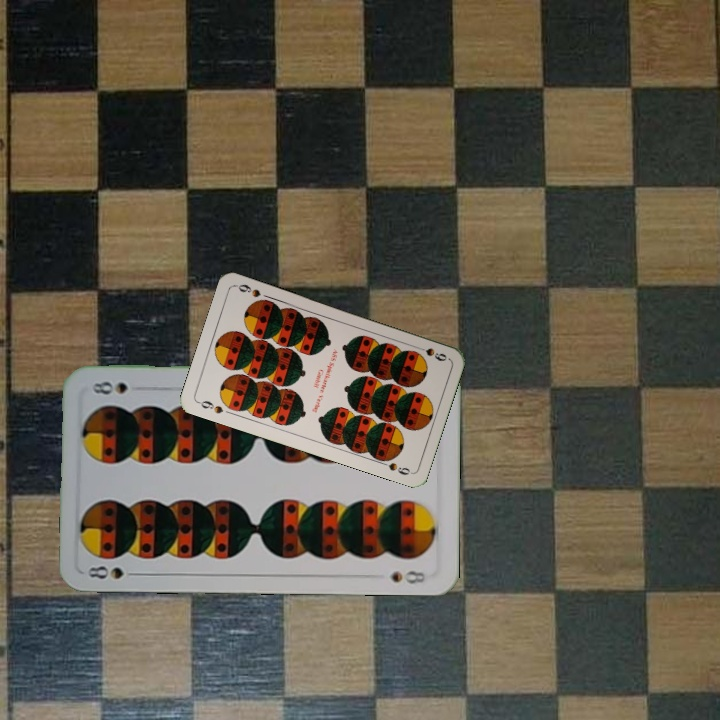S8: (84, 561, 143, 582)
S9: (411, 342, 449, 364), (194, 397, 226, 416)
